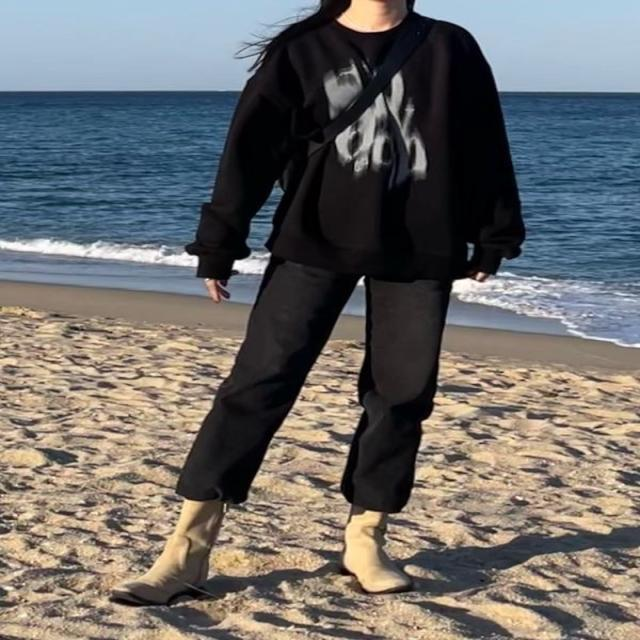denimpants: (176, 250, 455, 506)
mtm: (187, 13, 524, 281)
